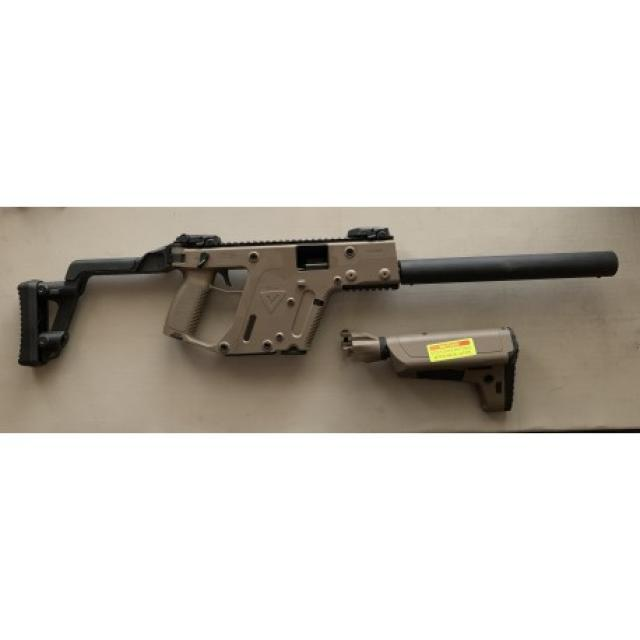SMG: (24, 231, 619, 365)
